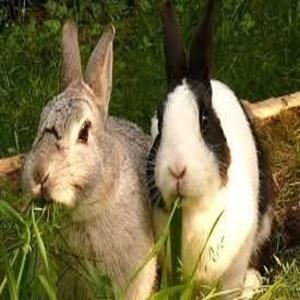rabbit: (26, 0, 277, 300)
